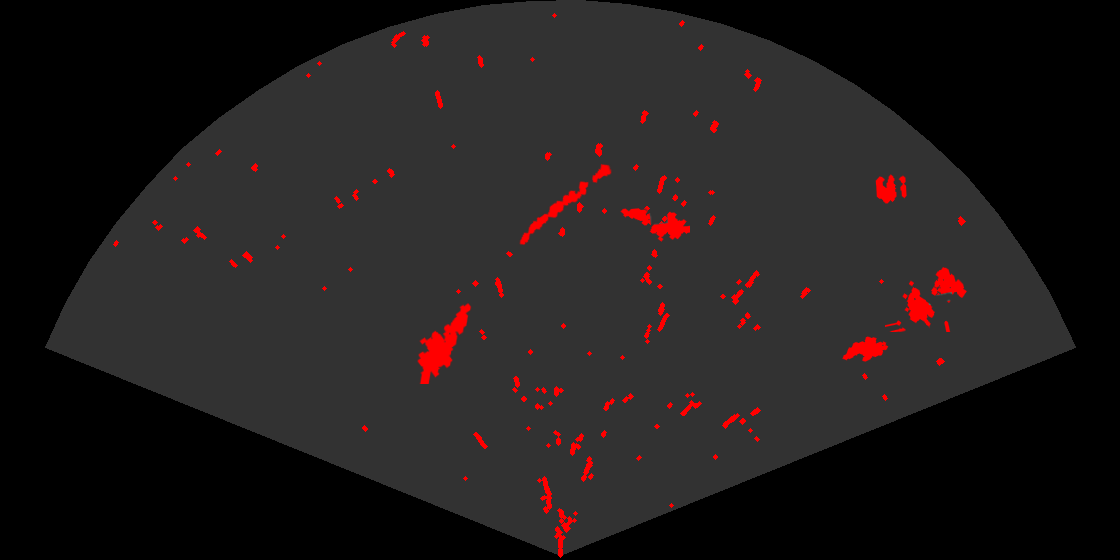AUV: (841, 335, 890, 363)
ball: (874, 173, 908, 205)
cage: (885, 266, 968, 332)
chain: (518, 162, 613, 247)
frogman: (416, 301, 473, 384), (619, 207, 690, 243)
